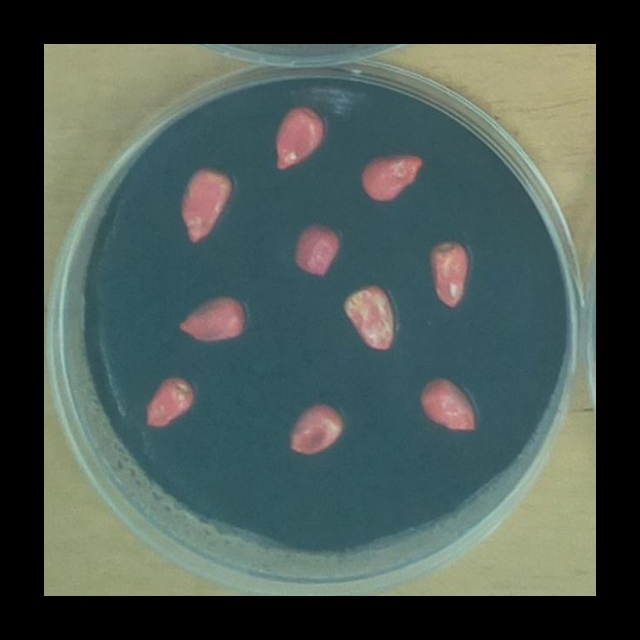Zea mays: (174, 160, 238, 247), (337, 276, 401, 357), (170, 287, 251, 347), (412, 370, 484, 437), (268, 100, 332, 175), (421, 232, 475, 313), (354, 148, 428, 207), (283, 396, 351, 460), (138, 370, 201, 434), (287, 214, 345, 282)
